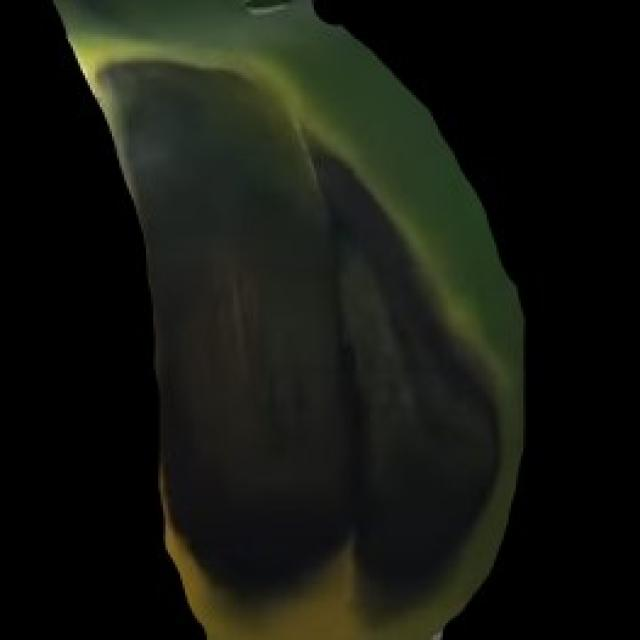mite: (56, 0, 304, 17), (226, 0, 311, 19), (234, 0, 360, 10), (238, 0, 297, 12)
sunburn: (85, 44, 518, 635)
